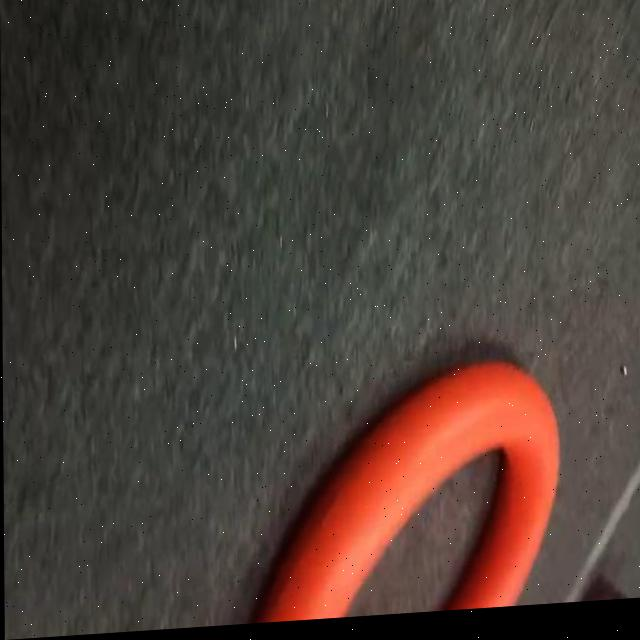note: (239, 356, 570, 627)
